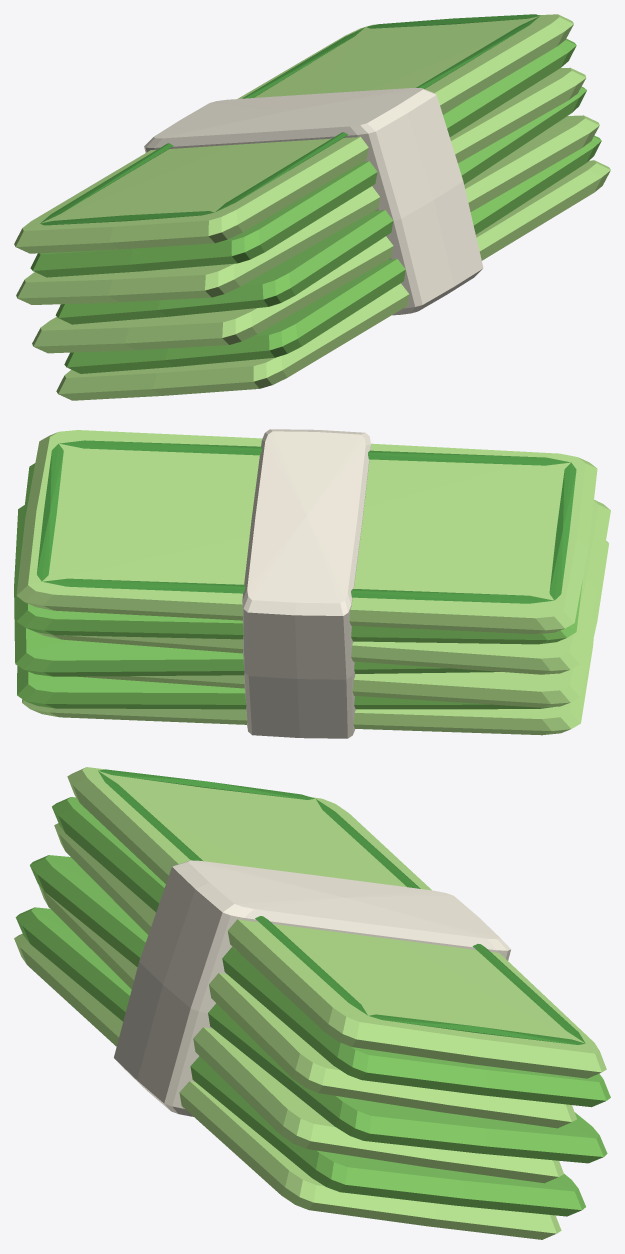
File: hand_cash.glb
The picture shows the model from 3 angles, top to bottom: view 1: azimuth 30°, elevation 25°; view 2: azimuth 150°, elevation 25°; view 3: azimuth 270°, elevation 25°; orthographic projection. The views are drawn at different scales.
Parts seen in each view (by area): view 1: hand_cash_q; view 2: hand_cash_q; view 3: hand_cash_q.
Part boxes in pixels (x1,y1,x2,y2): hand_cash_q: [14, 14, 610, 400]; hand_cash_q: [14, 429, 610, 738]; hand_cash_q: [14, 767, 610, 1239].
Size of the model in its own units: 1.32 by 0.531 by 1.02.
